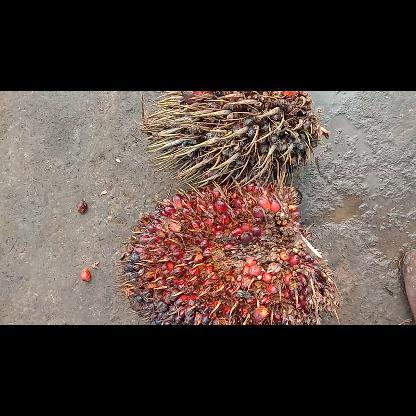TBS abnormal: (139, 90, 329, 186)
TBS masak: (113, 182, 340, 324)
